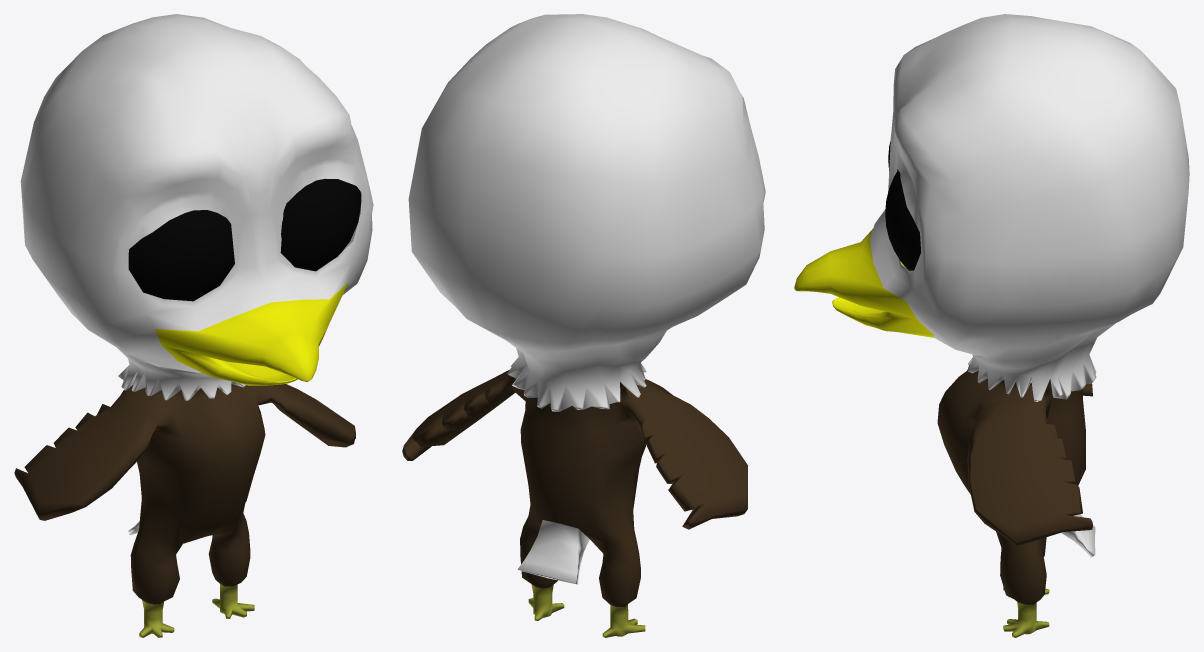
3 views of the same model, side by side, from view 1: azimuth 30°, elevation 25°; view 2: azimuth 150°, elevation 25°; view 3: azimuth 270°, elevation 25° (orthographic). The views are drawn at different scales.
Visible parts, largest first — view 1: polySurface2, BaseRig:EyeMesh_R, BaseRig:EyeMesh_L; view 2: polySurface2; view 3: polySurface2, BaseRig:EyeMesh_L.
Part boxes in pixels (left/top/right/bottom): polySurface2: left=14, top=14, right=373, bottom=637; BaseRig:EyeMesh_R: left=128, top=210, right=234, bottom=301; BaseRig:EyeMesh_L: left=280, top=178, right=361, bottom=271; polySurface2: left=402, top=14, right=765, bottom=637; polySurface2: left=794, top=14, right=1189, bottom=637; BaseRig:EyeMesh_L: left=885, top=170, right=921, bottom=270.
Size of the model in its own units: 4.43 by 7.84 by 4.79.
